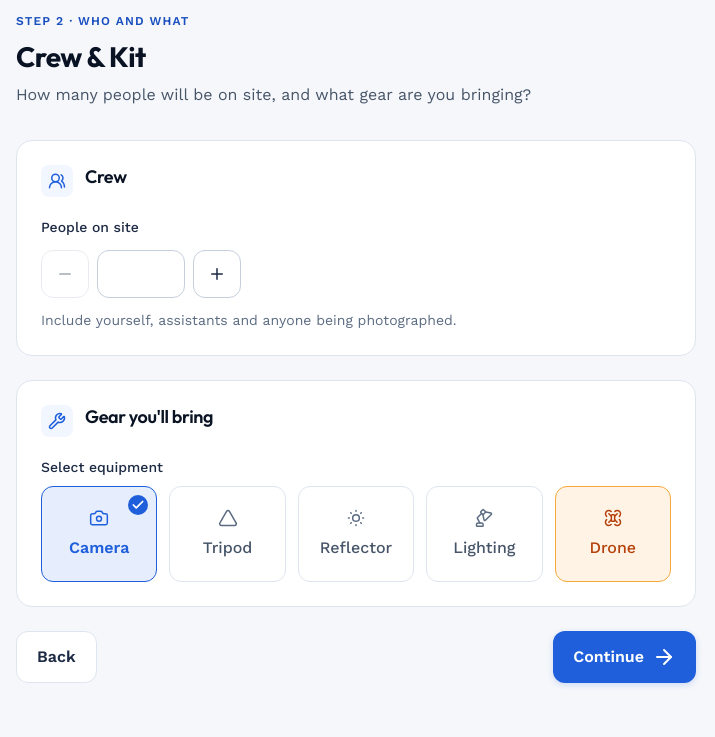
CrewEquipmentScreen › focuses the people input when it is first invalid
Click the button "Continue" at [625, 658], box [553,632,696,684]
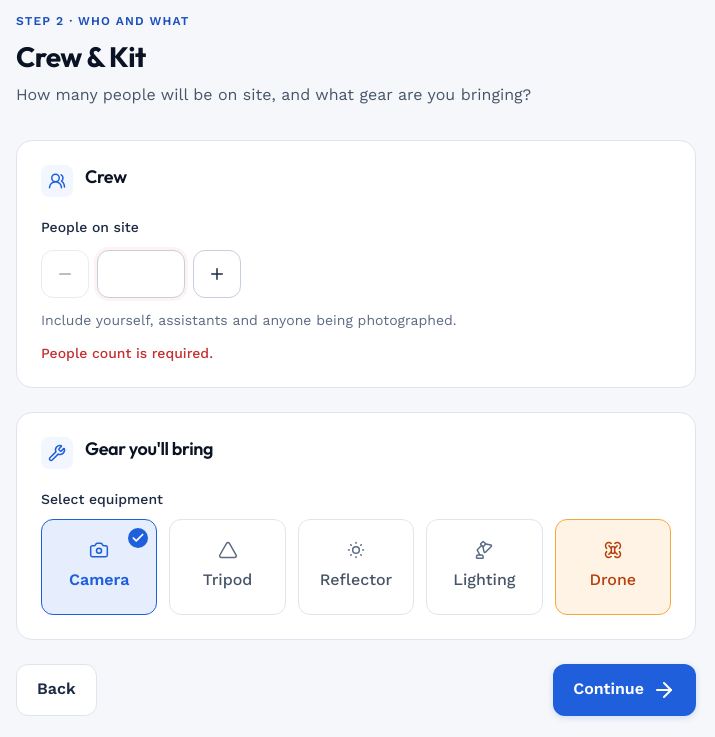
Expected: the message reads "People count is required.", [41,345,213,361]
